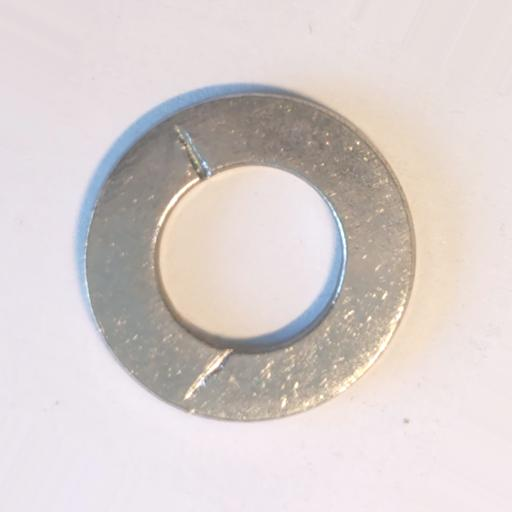scratch: (182, 349, 231, 400), (175, 124, 213, 179)
